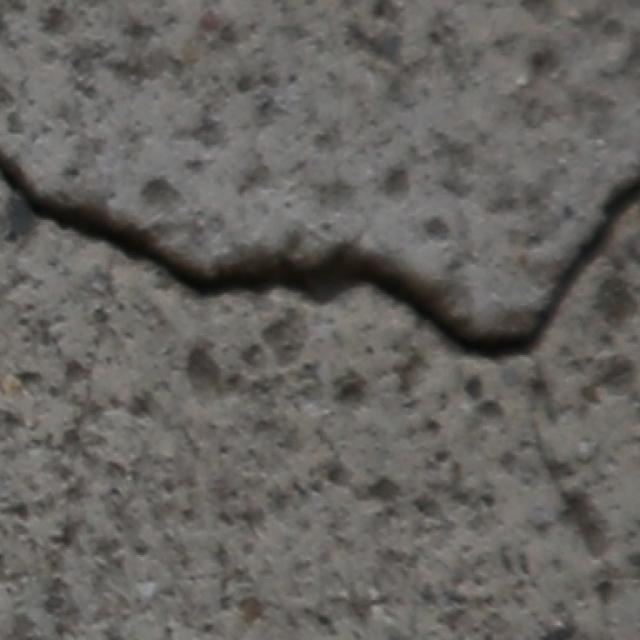Radial: (0, 93, 640, 590)
